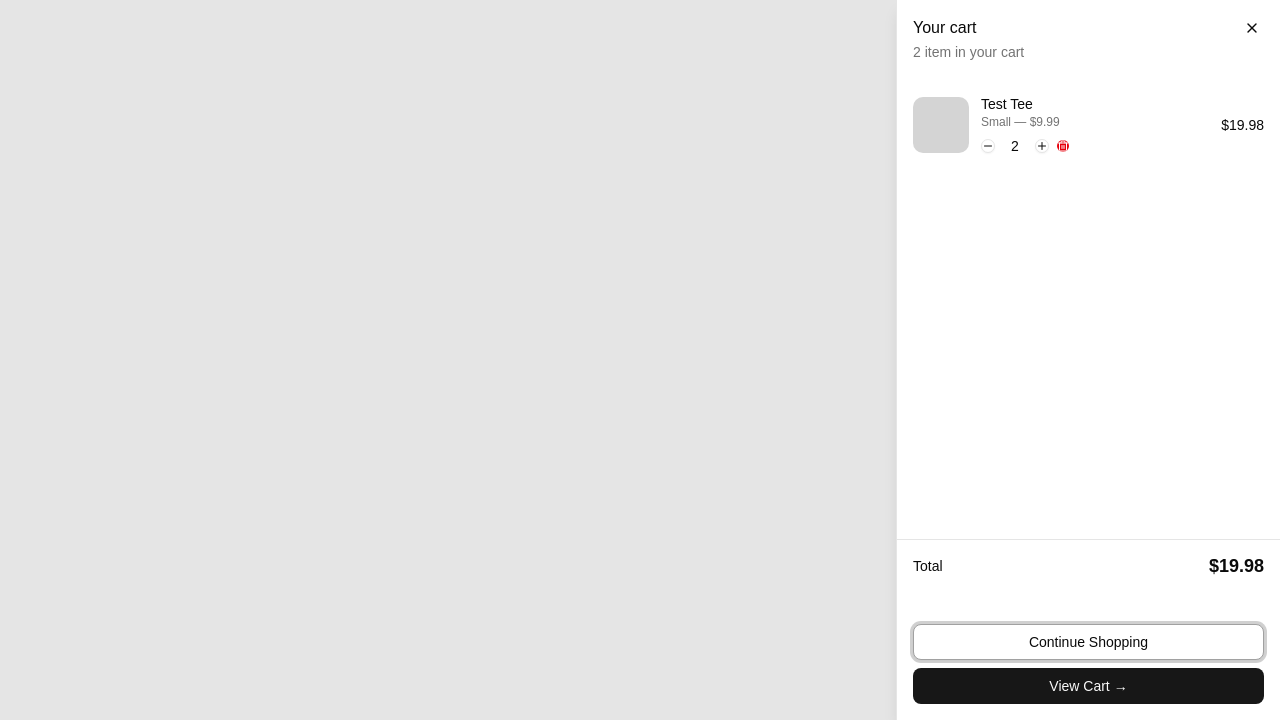
Test case: CartSheet › confirms removal via alert dialog when the item quantity is more than one
This screenshot has width=1280, height=720.
Click the button named "Remove Test Tee" at (1063, 146), box [1057, 140, 1069, 152]
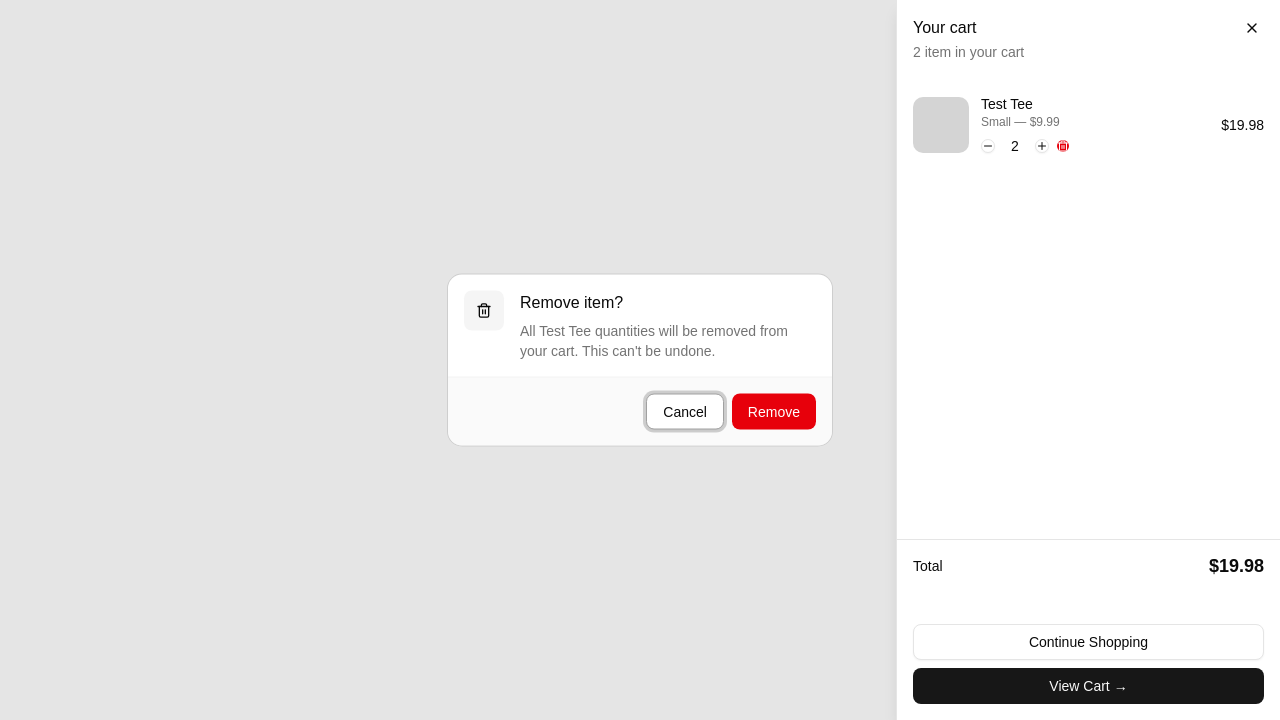
Expected: the heading "Remove item?" is shown, [520, 290, 623, 314]
Click the button "Remove" at (774, 412), box [732, 394, 816, 430]
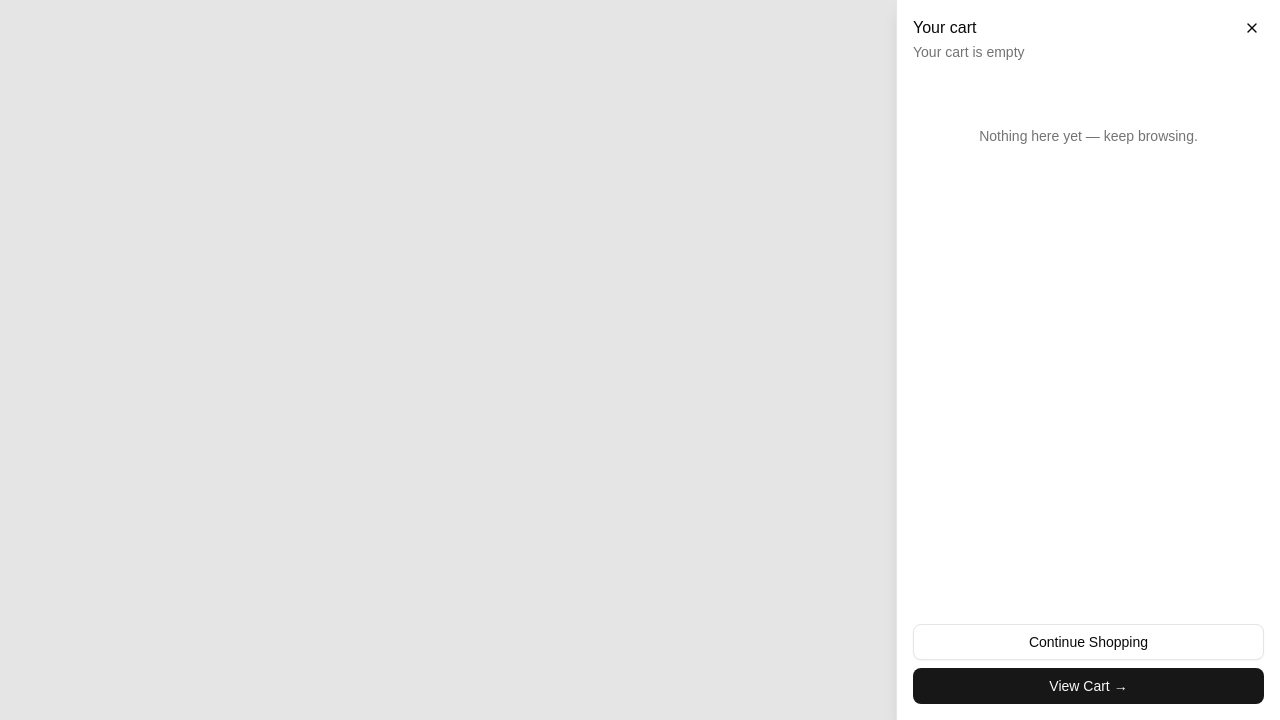
Expected: the text "Nothing here yet — keep browsing." is shown, [979, 128, 1198, 144]
